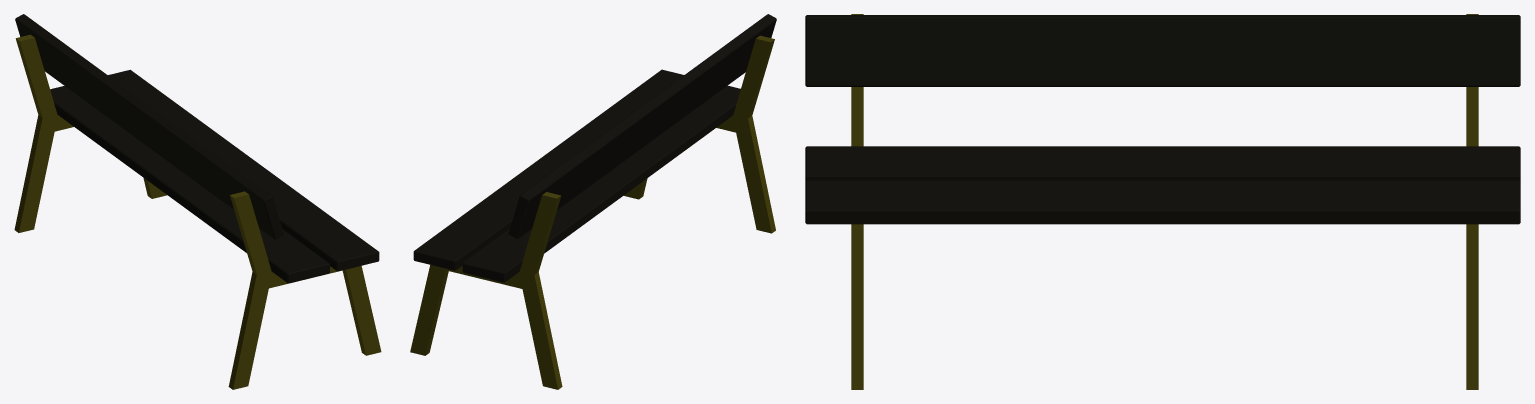
File: SM_Bench.fbx
3 views of the same model, side by side, from view 1: azimuth 30°, elevation 25°; view 2: azimuth 150°, elevation 25°; view 3: azimuth 270°, elevation 25° (orthographic). The views are drawn at different scales.
Visible parts, largest first — view 1: Bench; view 2: Bench; view 3: Bench.
Part boxes in pixels (<box>): Bench: <box>14,14,381,389</box>; Bench: <box>410,14,776,389</box>; Bench: <box>805,14,1520,389</box>.
Bounding box in the file's own units: 12.12 × 15.61 × 35.21.
